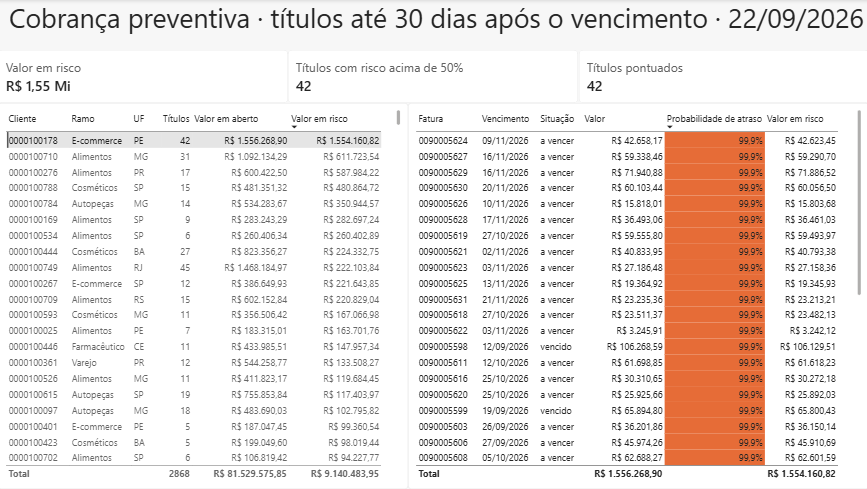

Layout of this report page (visuals, bound fields, positions):
{"tool":"powerbi","page":{"name":"Cobrança preventiva","canvas":[1920,1080],"ordinal":2},"visuals":[{"type":"textbox","box":[10,0,1910,100],"z":0},{"type":"cardVisual","fields":{"Data":["Sum(risco_titulos.valor_em_risco)"]},"box":[0,113.3,639.2,116.8],"z":1000},{"type":"cardVisual","fields":{"Data":["CountNonNull(risco_titulos.cod_fatura)"]},"box":[640,113.3,639.2,116.8],"z":2000},{"type":"cardVisual","fields":{"Data":["risco_titulos.Títulos pontuados"]},"box":[1280,113.3,639.2,116.8],"z":3000},{"type":"tableEx","fields":{"Values":["risco_titulos.cod_cliente","risco_titulos.ramo_descricao","risco_titulos.uf","risco_titulos.cod_fatura","Sum(risco_titulos.valor)","Sum(risco_titulos.valor_em_risco)"]},"box":[0,229.2,903.7,850.8],"z":4000},{"type":"tableEx","fields":{"Values":["risco_titulos.cod_fatura","risco_titulos.data_vencimento","risco_titulos.situacao","Sum(risco_titulos.valor)","risco_titulos.probabilidade_atraso","Sum(risco_titulos.valor_em_risco)"]},"box":[903.7,229.2,1016.1,850.8],"z":5000}]}

Visuals, with their boxes in screenshot pixels (x1, y1, x2, y2), scaled from the page's 1920x1080 canvas onto the 867x489 screenshot:
textbox: box(5, 0, 866, 45)
cardVisual - Sum(risco_titulos.valor_em_risco): box(0, 51, 289, 104)
cardVisual - CountNonNull(risco_titulos.cod_fatura): box(289, 51, 578, 104)
cardVisual - risco_titulos.Títulos pontuados: box(578, 51, 866, 104)
tableEx - risco_titulos.cod_cliente x risco_titulos.ramo_descricao: box(0, 104, 408, 488)
tableEx - risco_titulos.cod_fatura x risco_titulos.data_vencimento: box(408, 104, 866, 488)
